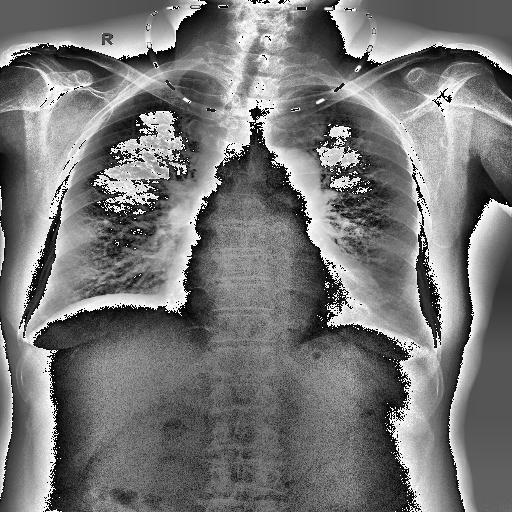0- Aortic enlargement: (238, 142, 320, 225), (250, 146, 322, 219), (266, 149, 320, 206)
3- Cardiomegaly: (166, 242, 387, 326), (162, 261, 383, 335), (164, 252, 390, 322)
